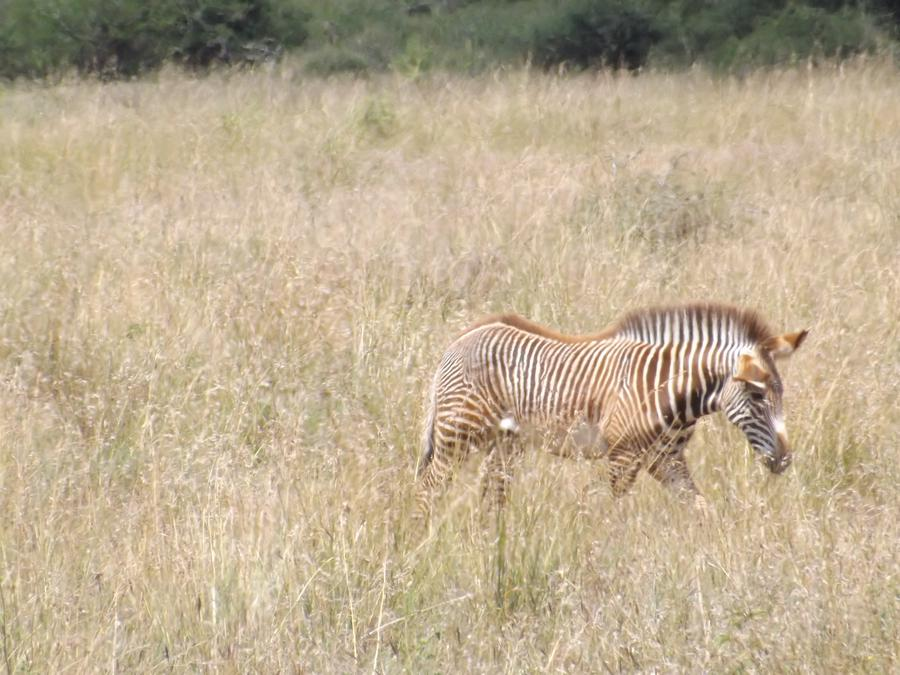zebra_grevys: (428, 306, 673, 460)
